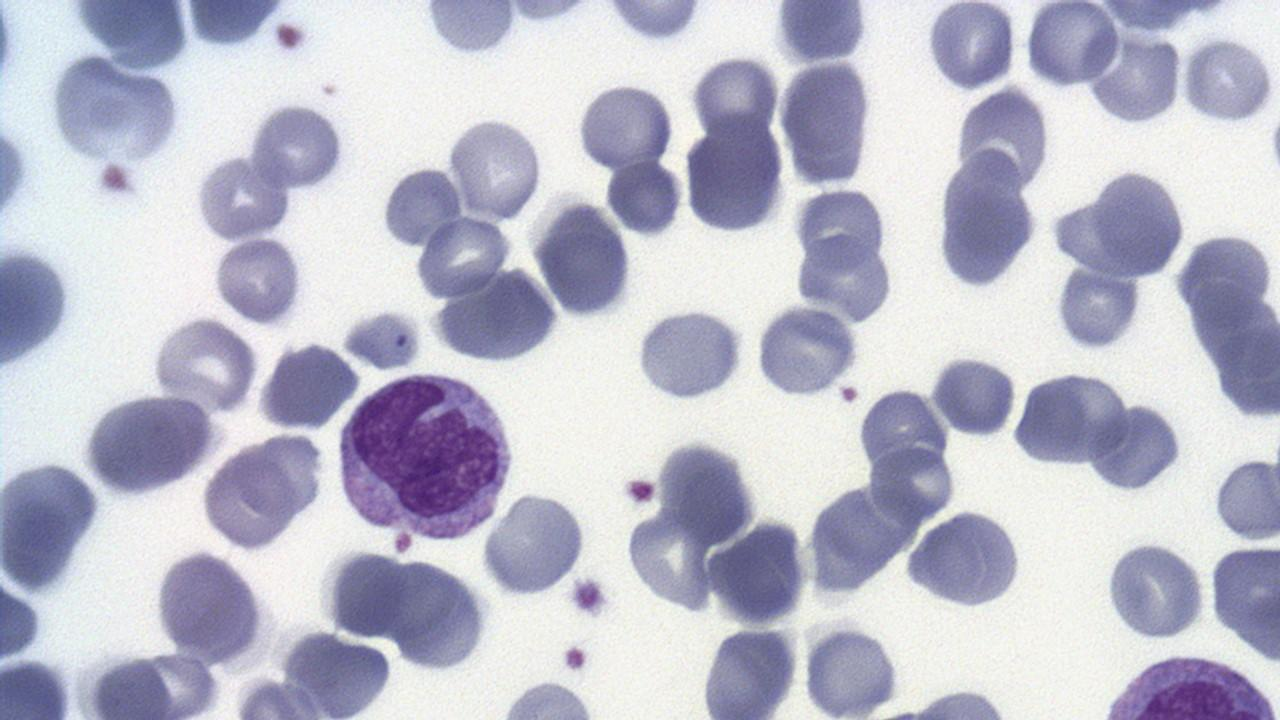Platelets: (928, 351, 1020, 440), (566, 572, 612, 620), (622, 472, 660, 508), (560, 640, 592, 676), (1267, 105, 1280, 189), (834, 381, 864, 408)
RBC: (782, 185, 912, 330), (197, 428, 332, 554), (77, 385, 222, 498), (933, 150, 1044, 290), (49, 54, 182, 168), (0, 455, 105, 597), (152, 545, 273, 663), (530, 191, 638, 322), (422, 265, 562, 366), (1078, 160, 1192, 280), (775, 53, 876, 188), (680, 112, 788, 238), (903, 506, 1028, 614), (479, 486, 591, 600), (386, 560, 493, 678), (657, 432, 762, 552), (0, 235, 82, 386), (1008, 368, 1129, 470), (632, 302, 748, 406), (1091, 159, 1189, 281), (708, 516, 809, 631), (1102, 535, 1208, 642), (445, 110, 546, 220), (148, 315, 261, 413), (752, 300, 860, 402), (798, 618, 906, 717), (696, 621, 804, 717), (254, 337, 359, 432), (246, 99, 353, 192), (1087, 28, 1183, 128), (572, 80, 676, 171), (1089, 396, 1187, 492), (856, 383, 954, 478), (63, 1, 196, 71), (192, 151, 294, 242), (1207, 539, 1280, 664), (1179, 34, 1277, 126), (1050, 261, 1146, 354), (212, 235, 308, 328), (1022, 2, 1121, 92), (318, 547, 410, 643), (926, 0, 1016, 94), (377, 156, 465, 252), (690, 50, 781, 141), (927, 350, 1019, 440), (414, 214, 510, 300), (867, 443, 957, 522), (604, 157, 686, 237), (772, 1, 872, 64), (1212, 452, 1278, 543), (417, 4, 523, 60), (176, 0, 294, 50), (340, 306, 426, 369), (494, 674, 606, 718), (595, 1, 707, 41), (0, 570, 46, 664), (0, 106, 32, 238), (0, 108, 31, 237), (0, 1, 20, 95)
WBC: (332, 366, 521, 550), (1093, 648, 1280, 716)
